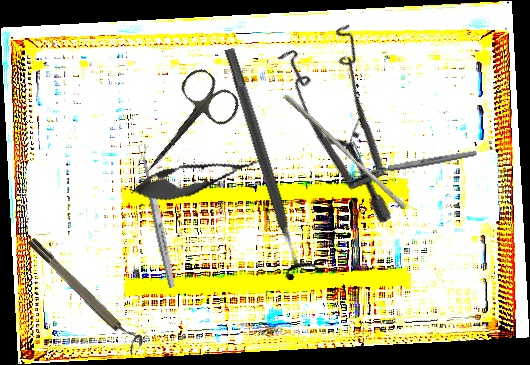Fixation Ring: (211, 43, 322, 282), (26, 231, 146, 355)
Iris Scissors: (122, 63, 246, 192)
Micro Scissor: (126, 143, 272, 211)
Pusher: (278, 93, 412, 211)
Speculum: (239, 3, 469, 227)
Surgical Spoon: (136, 143, 178, 289), (350, 148, 478, 180)
